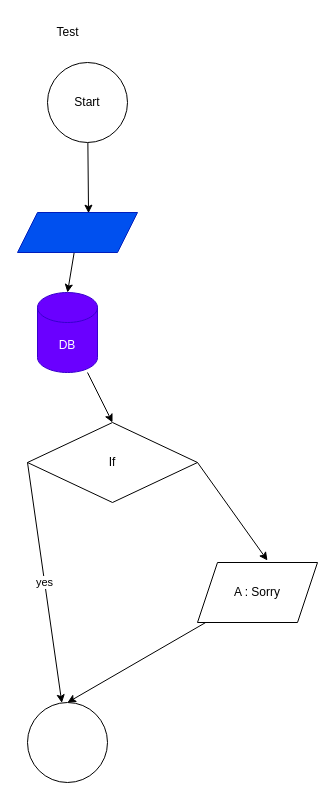
Image size: 335x800. Some labels were removed from this diagram. Here are the shapes that lost their labels. From the top down, the centre of each, then its label:
At (x=77, y=232): "Input Field userName".
At (x=67, y=742): "Ende".
